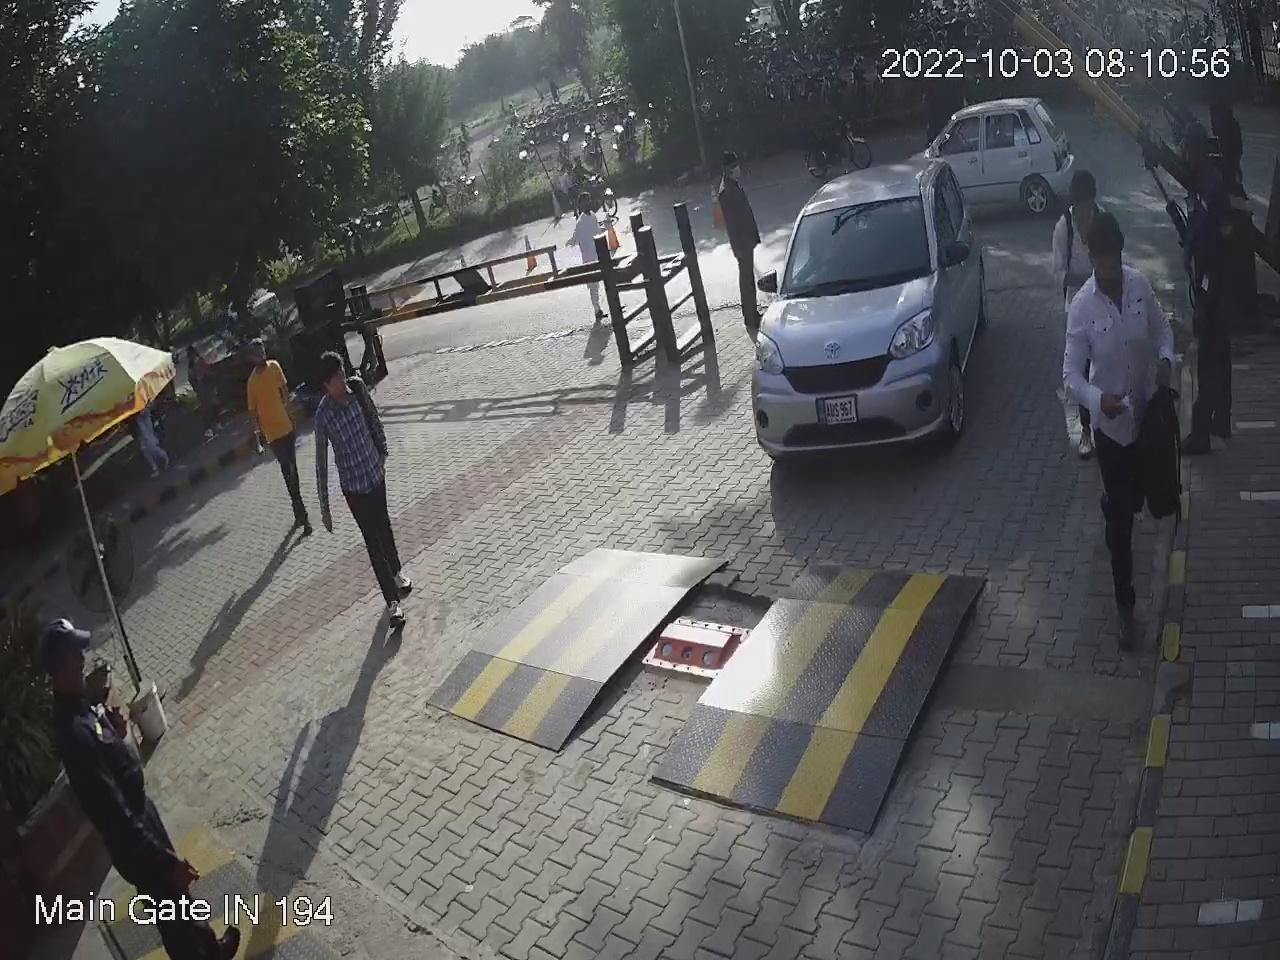windshield: (780, 183, 935, 303)
